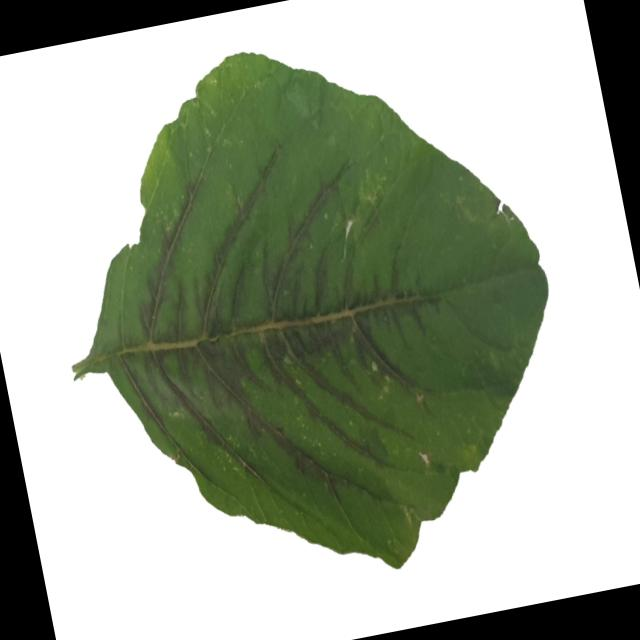Medicinal-Arive Dantu: (19, 0, 597, 626)
